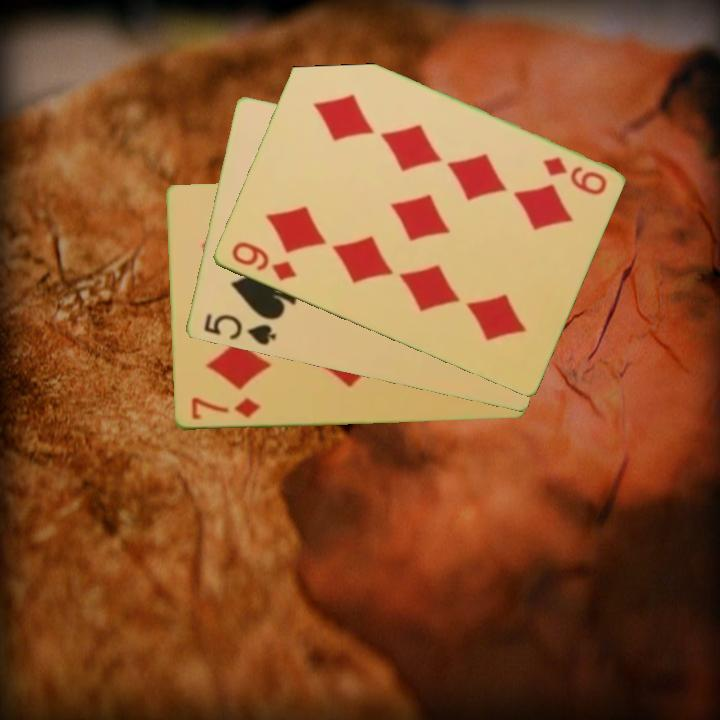5s: (200, 310, 279, 349)
7d: (187, 395, 263, 423)
9d: (227, 238, 299, 285), (538, 153, 609, 199)
